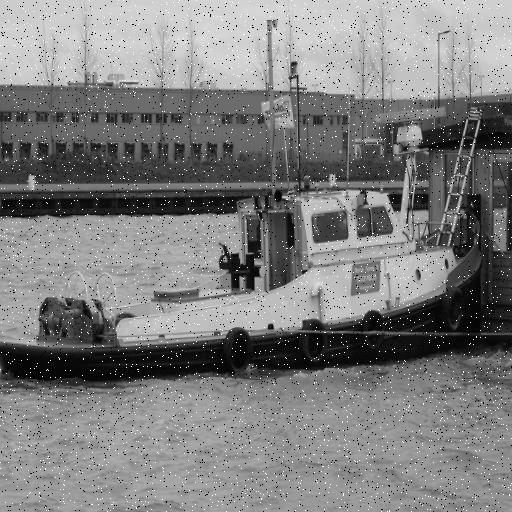tugboat: (1, 60, 497, 393)
